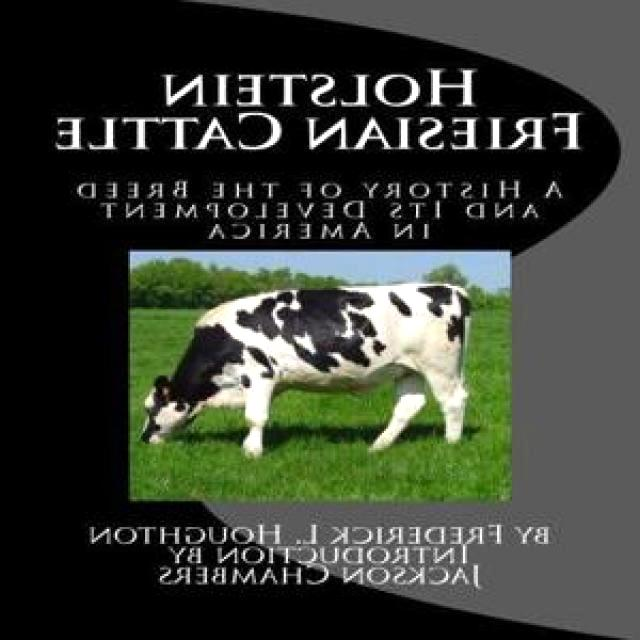COW: (142, 284, 470, 457)
